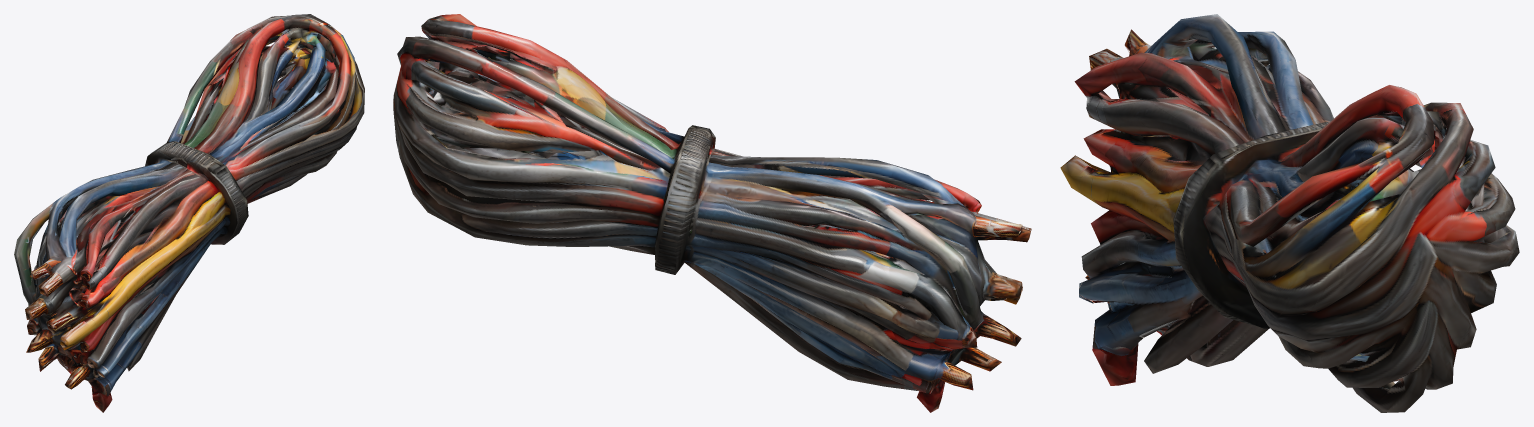
Rendered from scrap_Wire.fbx.
The picture shows the model from 3 angles, left to right: view 1: azimuth 30°, elevation 25°; view 2: azimuth 150°, elevation 25°; view 3: azimuth 270°, elevation 25°; orthographic projection. The views are drawn at different scales.
Parts seen in each view (by area): view 1: input; view 2: input; view 3: input.
Part boxes in pixels (left/top/right/bottom): input: left=14, top=14, right=364, bottom=412; input: left=393, top=14, right=1031, bottom=412; input: left=1060, top=14, right=1519, bottom=412.
Bounding box in the file's own units: 98.9 × 66.75 × 52.92.
Materials: 1 (1 with a texture image).
